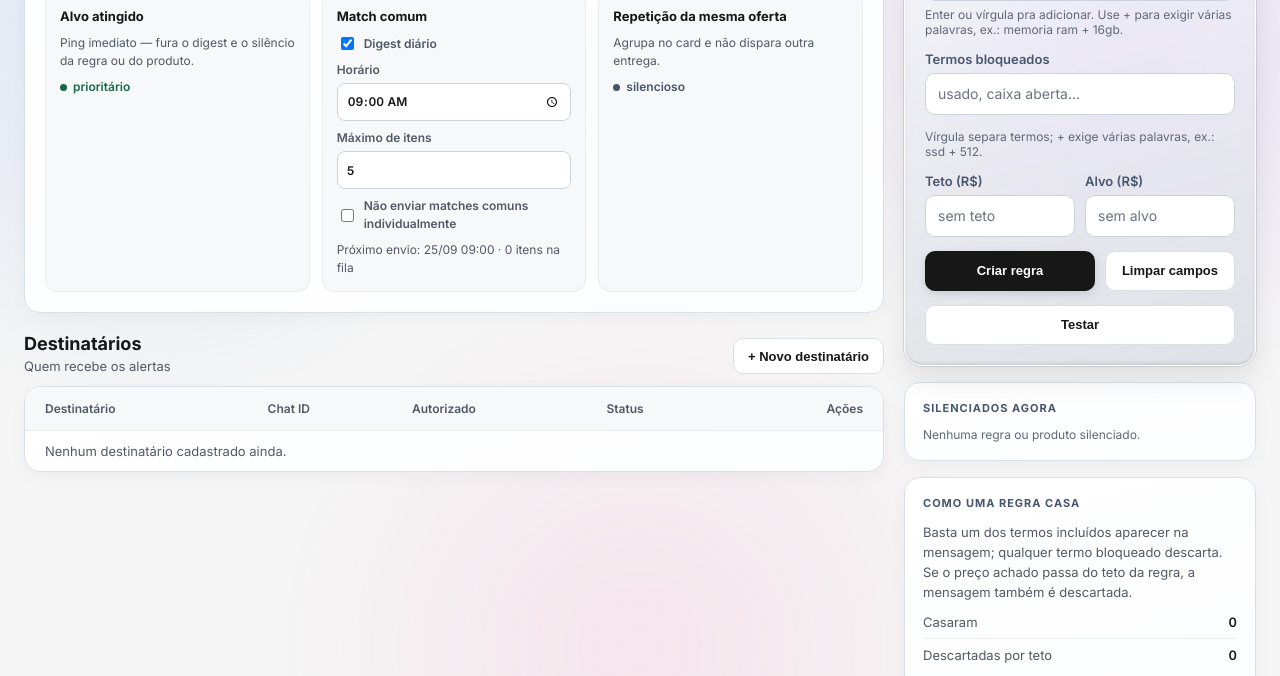
it: RegrasPage › S13-07: blocks testing with no include term, same message as saving
(page scrolled)
Click the button "Testar": (1080, 325) left=925, top=305, right=1235, bottom=345
(page scrolled)
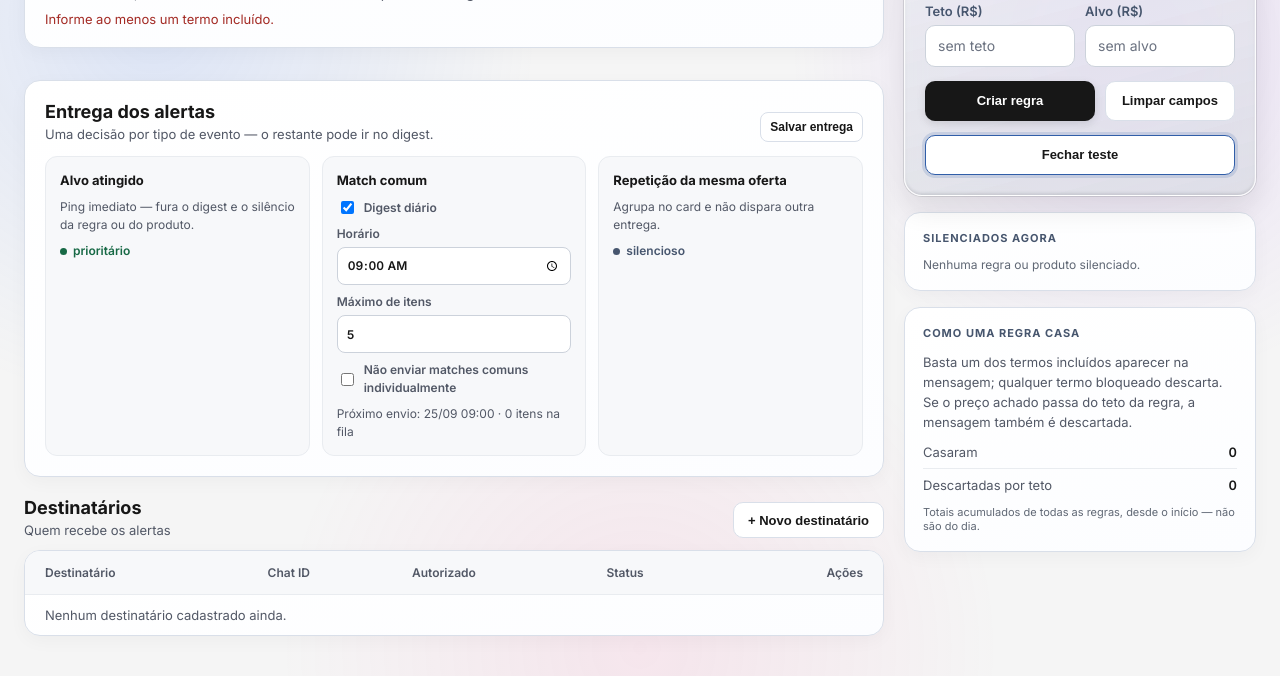
Now the text "Informe ao menos um termo incluído." is shown, box left=45, top=11, right=274, bottom=27
